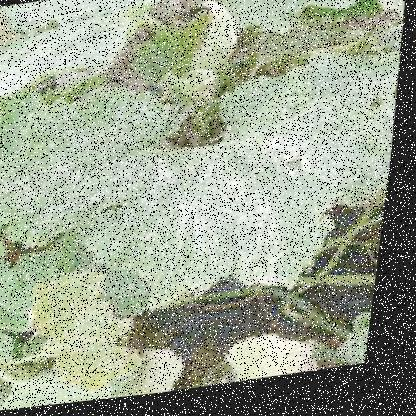PowderyMildew: (123, 153, 331, 284), (28, 99, 181, 274), (253, 74, 391, 211)
